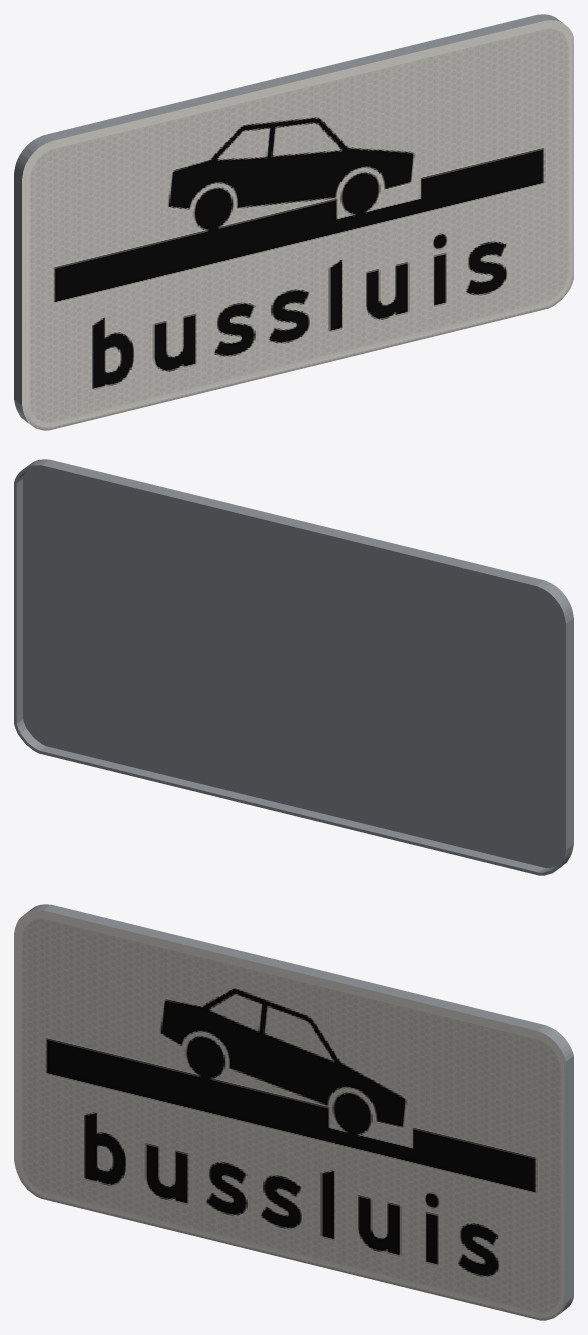
3 views of the same model, one above another, from view 1: azimuth 30°, elevation 25°; view 2: azimuth 150°, elevation 25°; view 3: azimuth 330°, elevation 25° (orthographic).
Visible parts, largest first — view 1: cat_424907489dc1afa7; view 2: cat_424907489dc1afa7; view 3: cat_424907489dc1afa7.
Part boxes in pixels (left/top/right/bottom): cat_424907489dc1afa7: left=14, top=14, right=573, bottom=430; cat_424907489dc1afa7: left=14, top=459, right=573, bottom=875; cat_424907489dc1afa7: left=14, top=904, right=573, bottom=1320.
Bounding box in the file's own units: 0.6 × 0.015 × 0.3.
Materials: 2 (1 with a texture image).
